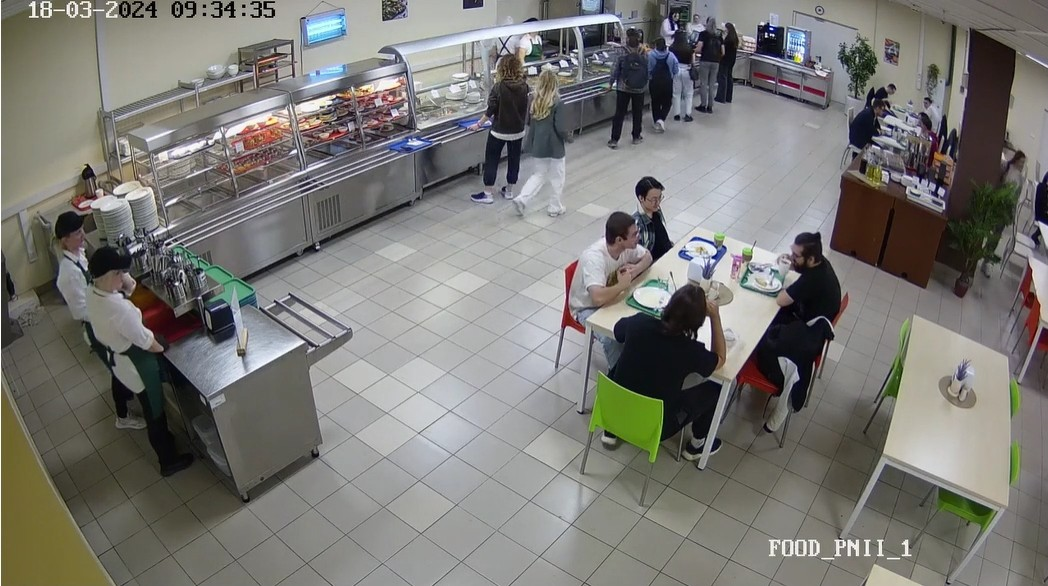Na_Kasse: (669, 33, 697, 122), (698, 11, 718, 112), (718, 21, 739, 107)
Ne_v_Ocheredi: (992, 139, 1023, 262)
Personal: (83, 250, 219, 476), (45, 215, 113, 386), (488, 9, 517, 55), (518, 20, 546, 62), (662, 3, 677, 37), (687, 13, 702, 35)
Vybiraet: (472, 59, 523, 199), (522, 70, 564, 217), (604, 28, 642, 153), (644, 31, 675, 133)
Za_Stolom: (583, 277, 728, 473), (553, 213, 641, 368), (770, 220, 844, 328), (634, 175, 684, 244), (839, 102, 887, 169), (1027, 159, 1048, 249), (904, 118, 940, 152), (870, 80, 899, 108), (914, 90, 942, 119)
